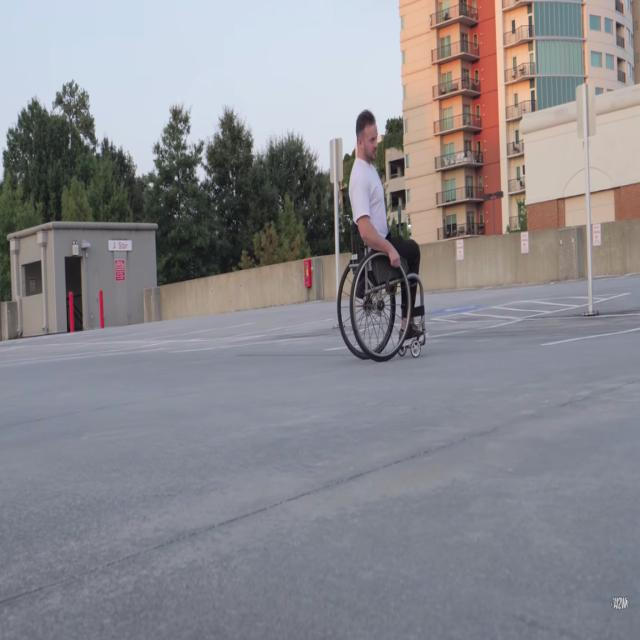wheelchairs: (336, 238, 429, 367)
